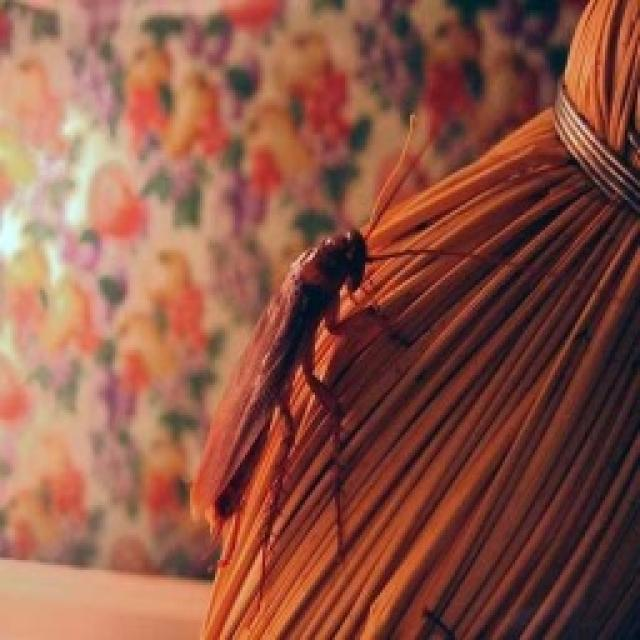cockroach: (165, 189, 420, 559)
